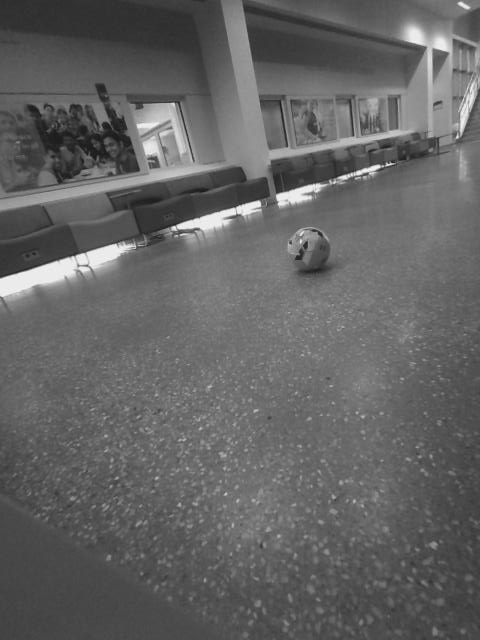ball: (279, 222, 335, 276)
